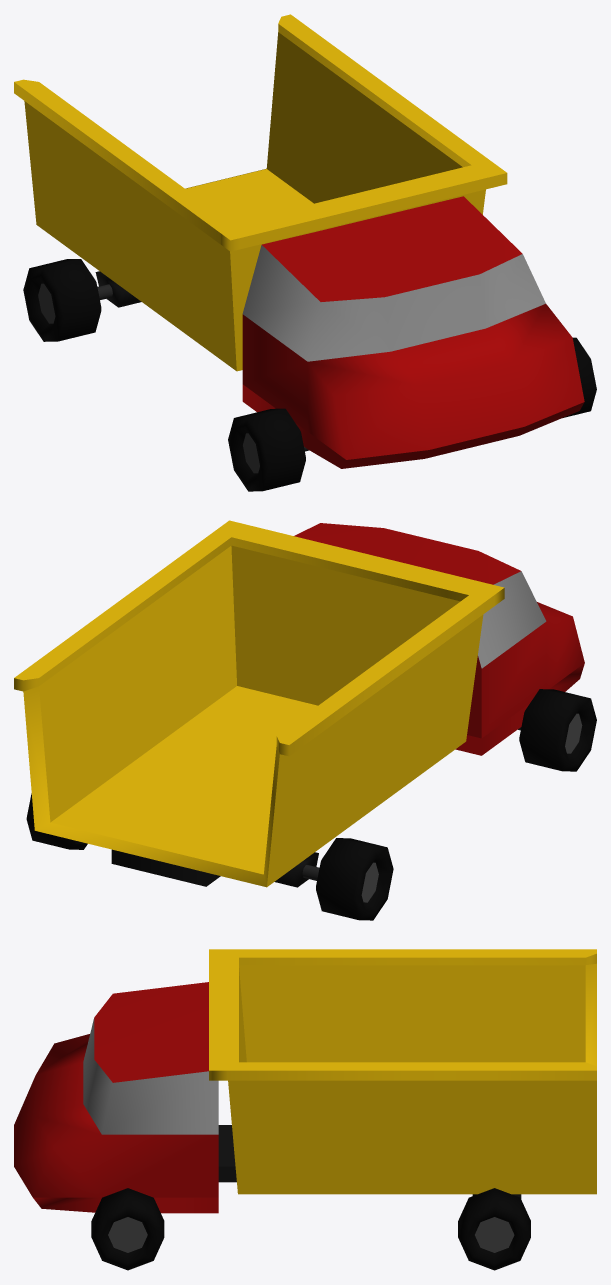
Rendered from House_KidsRoom_ToyTruck.FBX.
The picture shows the model from 3 angles, top to bottom: view 1: azimuth 30°, elevation 25°; view 2: azimuth 150°, elevation 25°; view 3: azimuth 270°, elevation 25°; orthographic projection. The views are drawn at different scales.
Visible parts, largest first — view 1: House_KidsRoom_toyTruck; view 2: House_KidsRoom_toyTruck; view 3: House_KidsRoom_toyTruck.
Boxes of the visible parts, box(x1,y1,x2,y2) form: House_KidsRoom_toyTruck: box(14, 14, 596, 491); House_KidsRoom_toyTruck: box(14, 520, 596, 920); House_KidsRoom_toyTruck: box(14, 949, 596, 1270).
Size of the model in its own units: 28.09 by 16.97 by 47.32.
